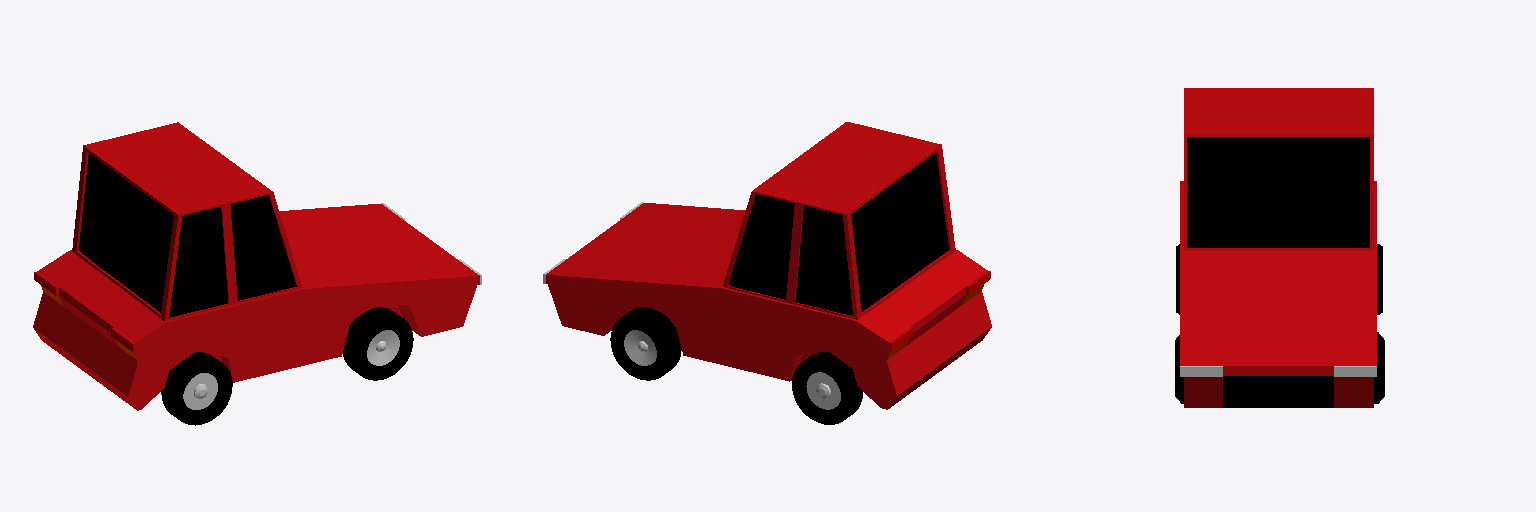
File: lacaru.obj
3 views of the same model, side by side, from view 1: azimuth 30°, elevation 25°; view 2: azimuth 150°, elevation 25°; view 3: azimuth 270°, elevation 25° (orthographic).
Parts seen in each view (by area): view 1: LaCaru_Cube.001, Cylinder.001_Cylinder.008, Cylinder.002_Cylinder.006; view 2: LaCaru_Cube.001, Cylinder_Cylinder.004, Cylinder.002_Cylinder.006; view 3: LaCaru_Cube.001, Cylinder.002_Cylinder.006, Cylinder_Cylinder.004.
Part boxes in pixels (x1,y1,x2,y2): LaCaru_Cube.001: (33,122,481,410); Cylinder.001_Cylinder.008: (343,307,413,380); Cylinder.002_Cylinder.006: (161,352,232,425); LaCaru_Cube.001: (543,122,991,409); Cylinder_Cylinder.004: (610,307,681,380); Cylinder.002_Cylinder.006: (792,352,862,424); LaCaru_Cube.001: (1180,88,1376,407); Cylinder.002_Cylinder.006: (1176,244,1382,314); Cylinder_Cylinder.004: (1374,332,1384,403).
Size of the model in its own units: 4.27 by 2.48 by 2.2.